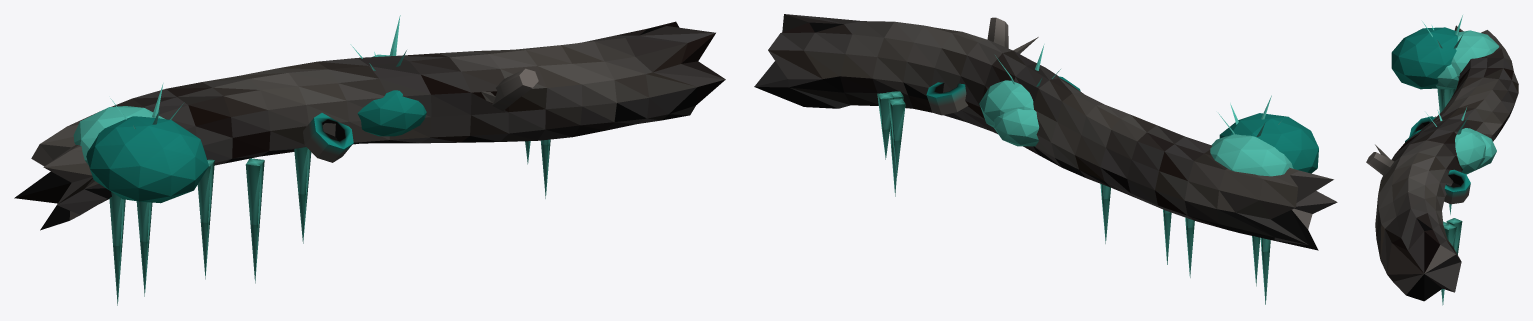
Rendered from pohon_tumbang_bridge_swamp_658577.glb.
3 views of the same model, side by side, from view 1: azimuth 30°, elevation 25°; view 2: azimuth 150°, elevation 25°; view 3: azimuth 270°, elevation 25° (orthographic). The views are drawn at different scales.
Visible parts, largest first — view 1: Batang_Melintang_Sungai; view 2: Batang_Melintang_Sungai; view 3: Batang_Melintang_Sungai.
Boxes of the visible parts, x1,y1,x2,y2 form: Batang_Melintang_Sungai: (14, 15, 725, 305); Batang_Melintang_Sungai: (754, 14, 1337, 304); Batang_Melintang_Sungai: (1366, 15, 1518, 305).
Bounding box in the file's own units: 7.45 × 2.39 × 2.11.
